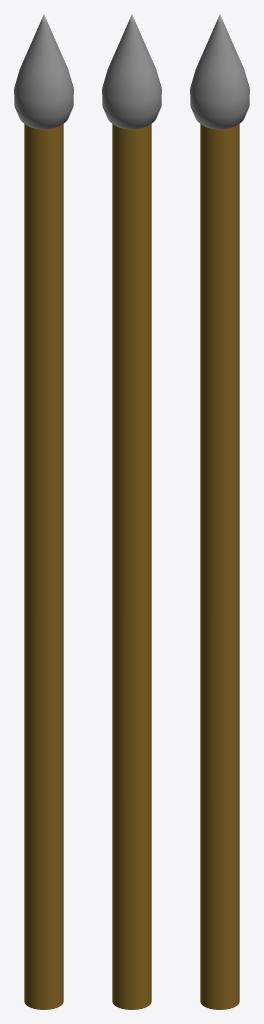
The model's file is Painter.fbx.
The picture shows the model from 3 angles, left to right: view 1: azimuth 30°, elevation 25°; view 2: azimuth 150°, elevation 25°; view 3: azimuth 330°, elevation 25°; orthographic projection.
Visible parts, largest first — view 1: Painter; view 2: Painter; view 3: Painter.
Boxes of the visible parts, x1,y1,x2,y2 form: Painter: [14, 14, 73, 1009]; Painter: [102, 14, 161, 1009]; Painter: [190, 14, 249, 1009].
Size of the model in its own units: 2.08 by 37.95 by 2.08.
